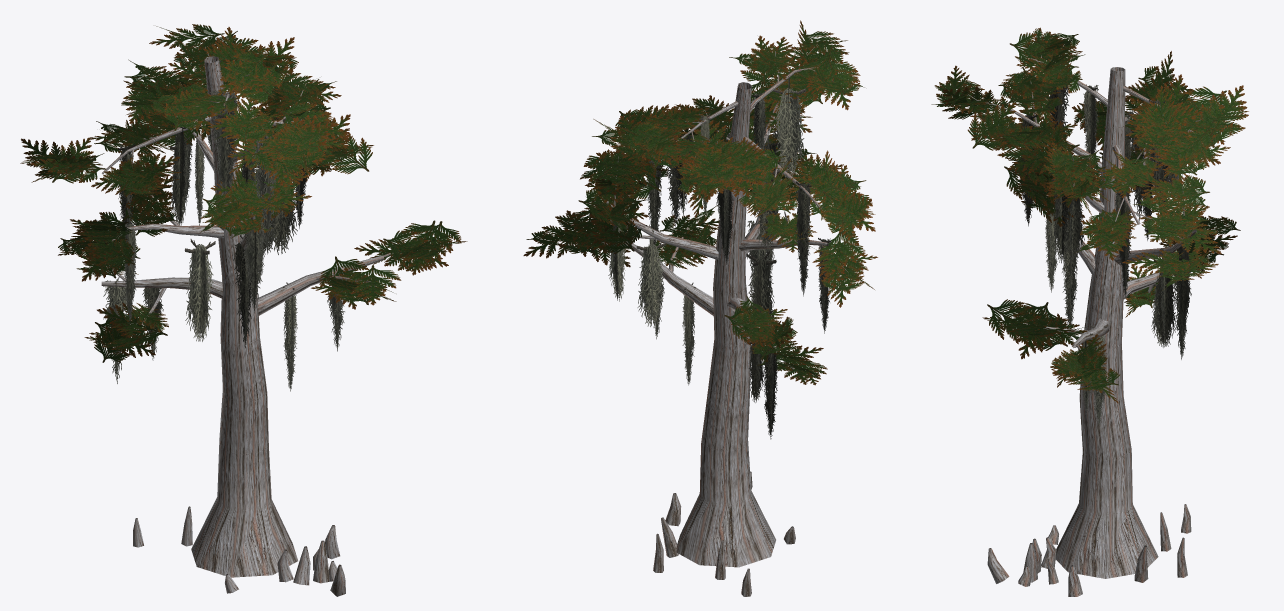
Rendered from nature-black-swamp-cypress_v3.glb.
The picture shows the model from 3 angles, left to right: view 1: azimuth 30°, elevation 25°; view 2: azimuth 150°, elevation 25°; view 3: azimuth 270°, elevation 25°; orthographic projection. The views are drawn at different scales.
Parts seen in each view (by area): view 1: nature-black-swamp-cypress; view 2: nature-black-swamp-cypress; view 3: nature-black-swamp-cypress.
Boxes of the visible parts, bbox=[...] form: nature-black-swamp-cypress: bbox=[20, 24, 467, 596]; nature-black-swamp-cypress: bbox=[523, 20, 877, 596]; nature-black-swamp-cypress: bbox=[931, 27, 1248, 596].
Bounding box in the file's own units: 8.65 × 10.54 × 6.57.
2 materials, 2 textured.
